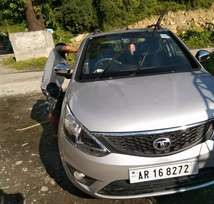AR168272: (129, 161, 198, 183)
